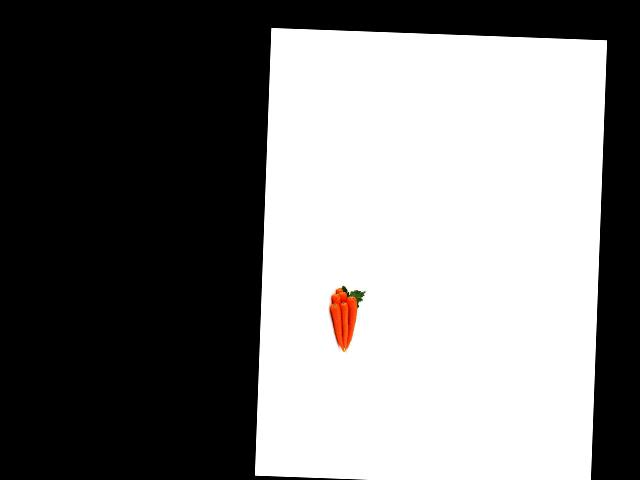carrot: (334, 285, 343, 294)
